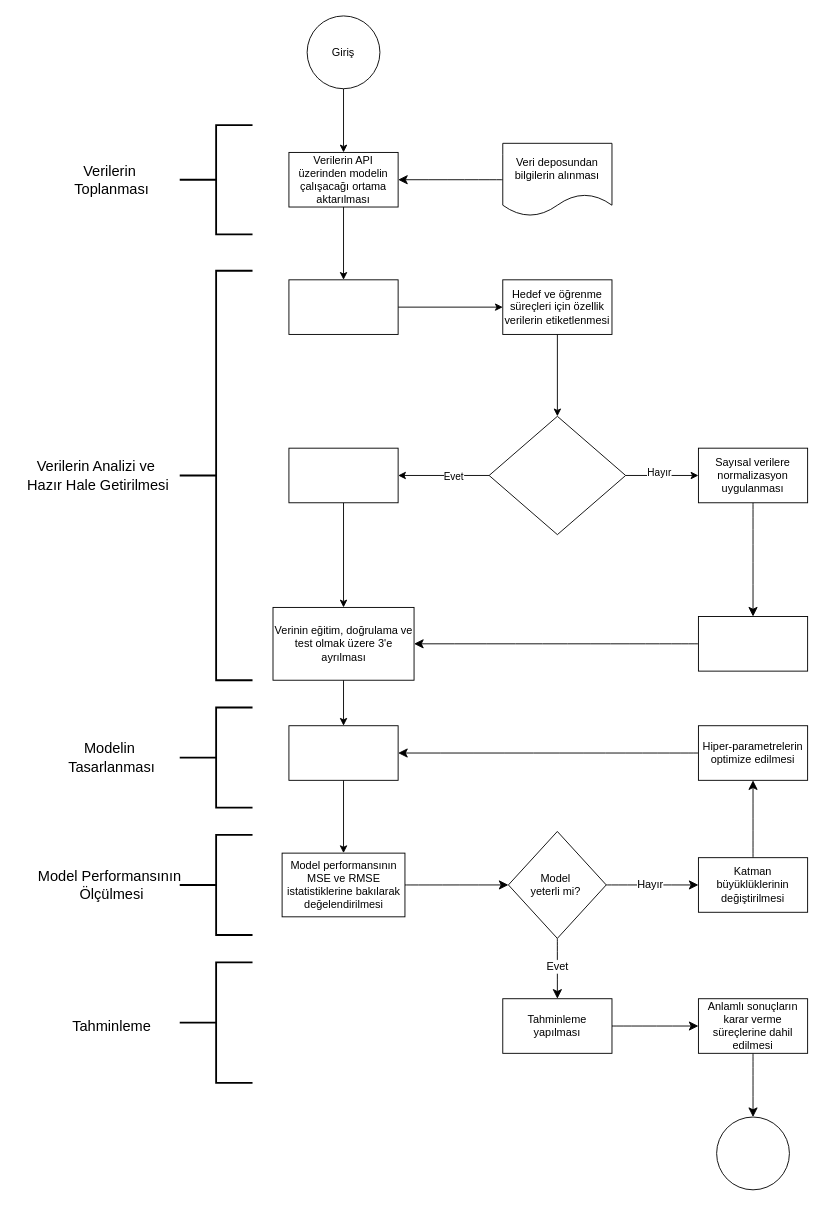
This 824x1206 diagram has some shape labels left out. Here are the shapes that lost their labels. From the top down, the box of each, then its label:
(288, 279, 398, 334): Verilerin filtre ve temizleme süreçlerinden geçirilmesi
(288, 447, 398, 503): Kategorik verilere İkili sınıflandırma uygulanması
(488, 415, 626, 535): Veriler kategorik mi?
(698, 616, 808, 671): Zaman serilerinin oluşturulması
(288, 725, 398, 780): RNN Modelinin oluşturulması
(716, 1116, 789, 1190): Çıkış
